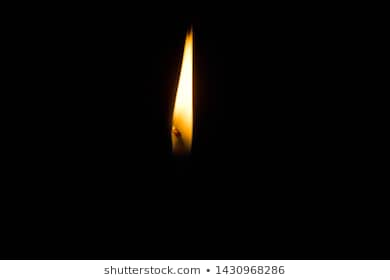Fire: (172, 24, 197, 153)
